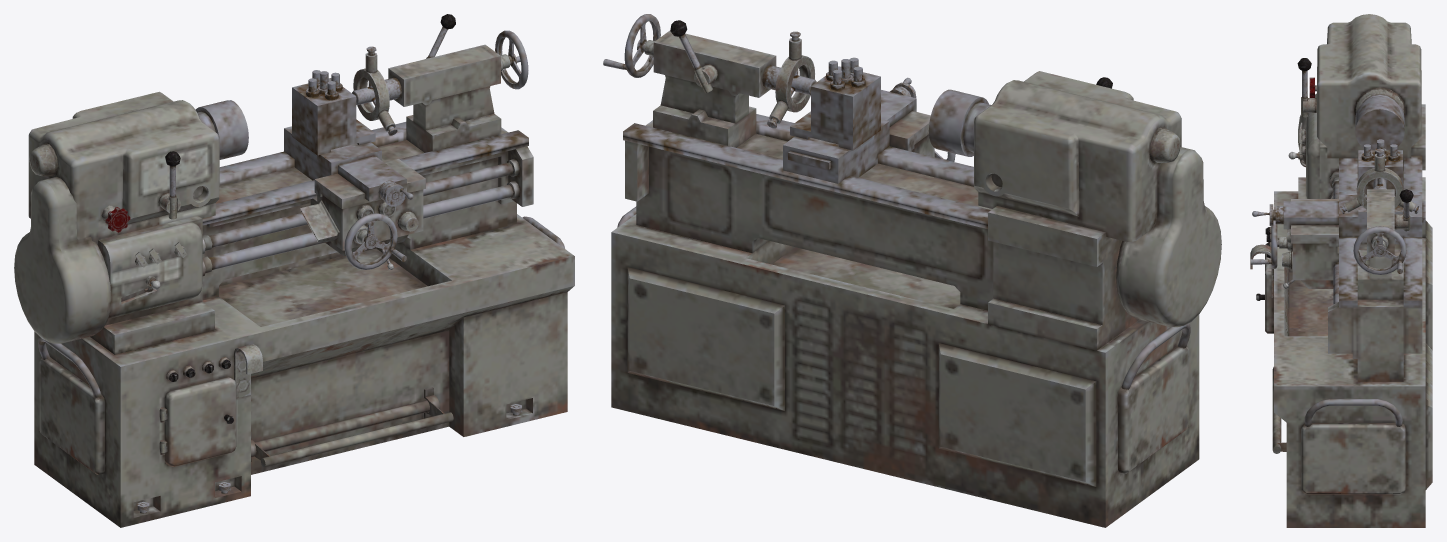
The model's file is sm22_042_workinglathe01a.fbx.
3 views of the same model, side by side, from view 1: azimuth 30°, elevation 25°; view 2: azimuth 150°, elevation 25°; view 3: azimuth 270°, elevation 25° (orthographic). The views are drawn at different scales.
Visible parts, largest first — view 1: LOD_1_Group_0_Sub_1__sm22_042_WorkingLathe01A_A_Mat; view 2: LOD_1_Group_0_Sub_1__sm22_042_WorkingLathe01A_A_Mat; view 3: LOD_1_Group_0_Sub_1__sm22_042_WorkingLathe01A_A_Mat.
Part boxes in pixels (x1,y1,x2,y2): LOD_1_Group_0_Sub_1__sm22_042_WorkingLathe01A_A_Mat: [14, 14, 574, 527]; LOD_1_Group_0_Sub_1__sm22_042_WorkingLathe01A_A_Mat: [603, 14, 1221, 527]; LOD_1_Group_0_Sub_1__sm22_042_WorkingLathe01A_A_Mat: [1250, 14, 1432, 527].
Bounding box in the file's own units: 2.48 × 1.67 × 0.8697.
